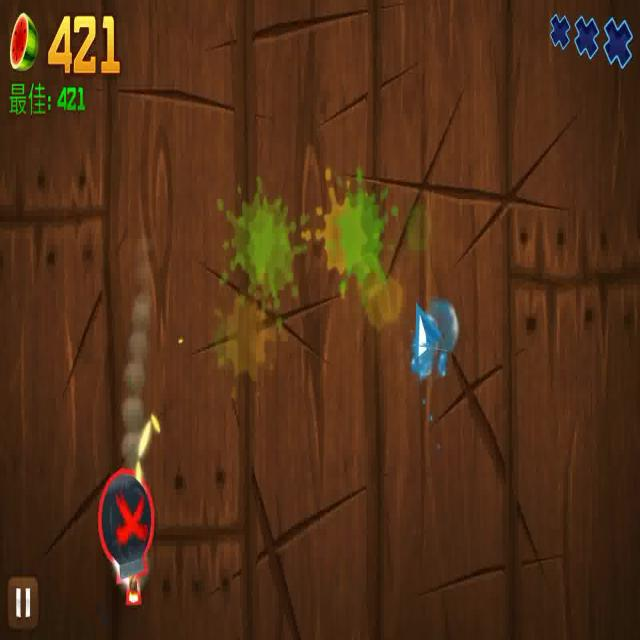bomb: (96, 470, 156, 608)
